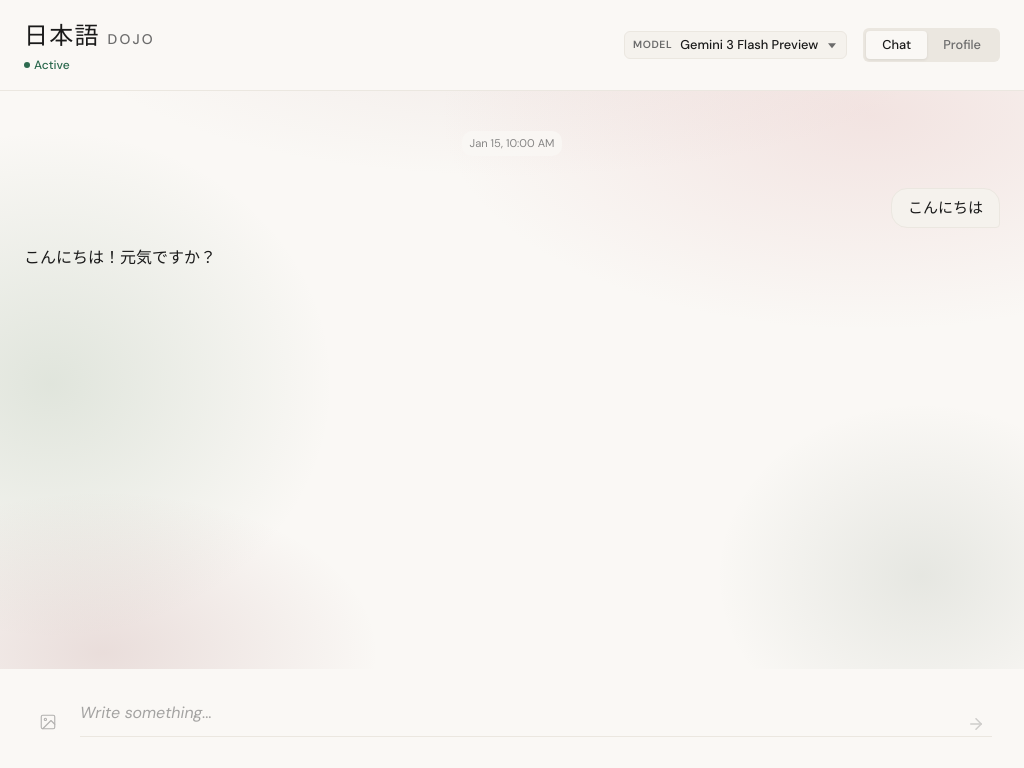
Chat › rendering › updates the selected chat model
Click the button with aria-label "Chat model".
click(749, 45)  # box [680, 35, 818, 55]
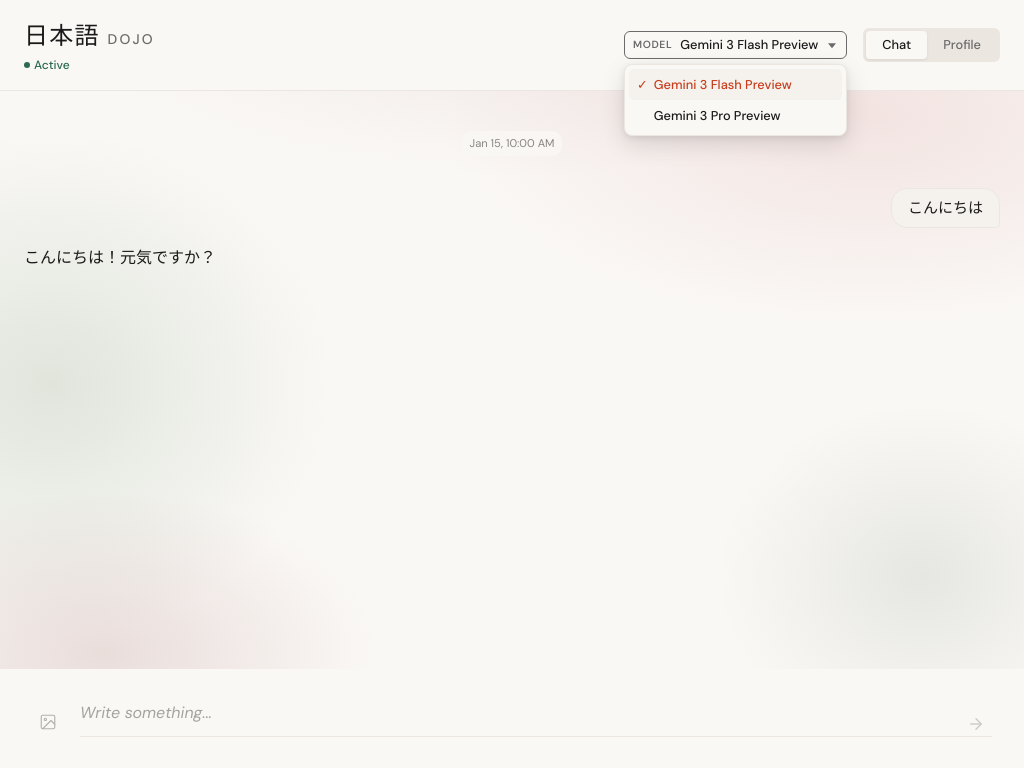
Click the option "Gemini 3 Pro Preview".
click(717, 115)  # box [654, 107, 780, 124]
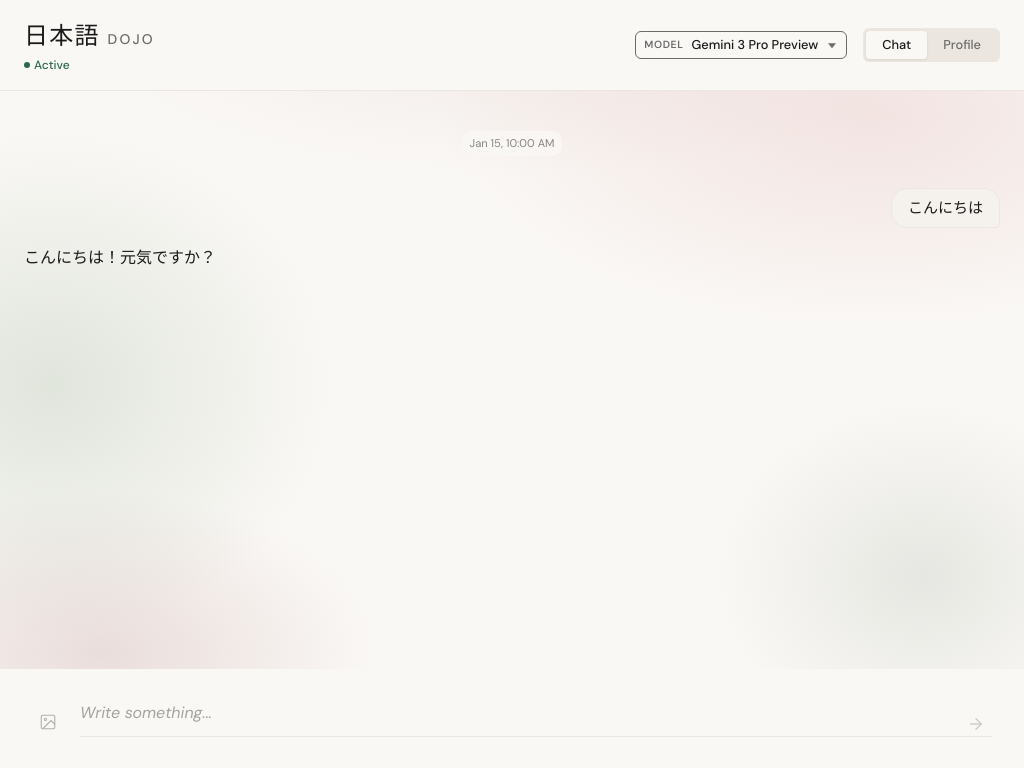
Check: the button with aria-label "Chat model" reads "Gemini 3 Pro Preview", box [692, 35, 818, 55]
